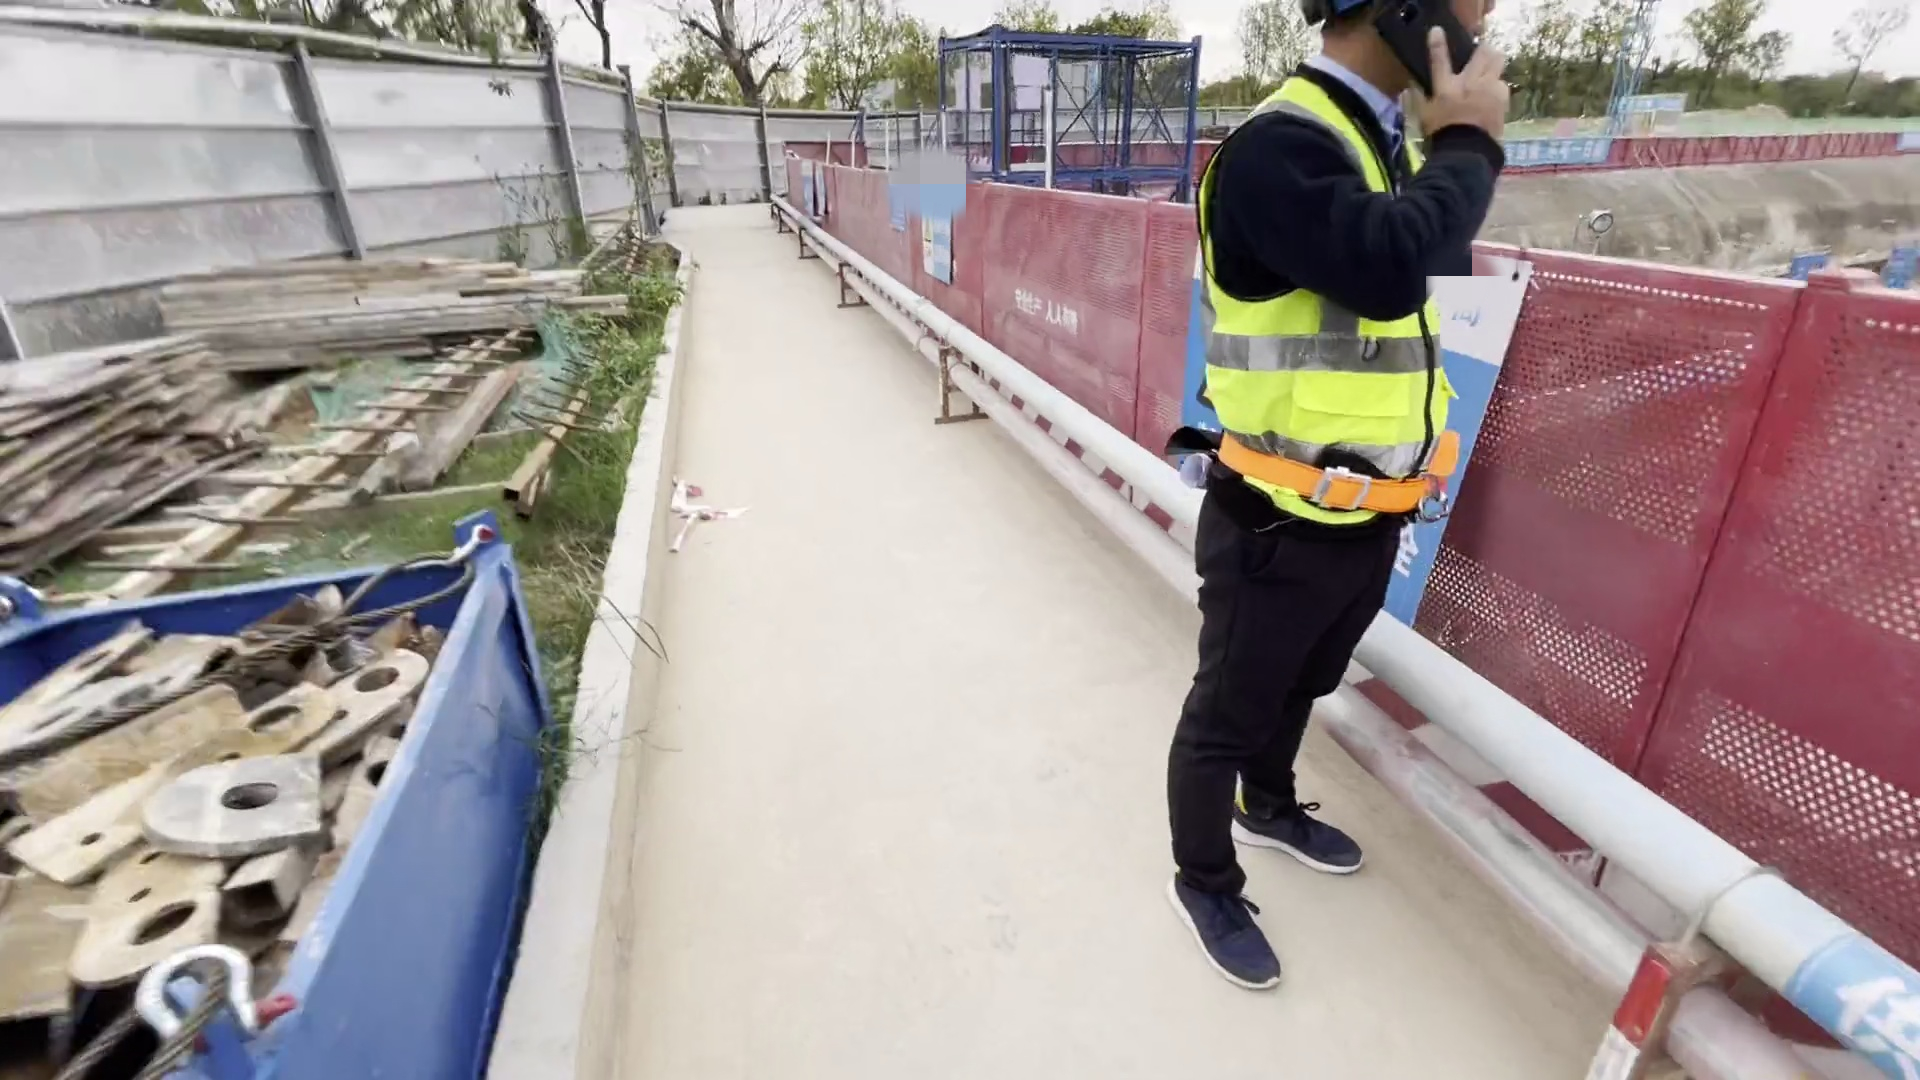board: (1, 337, 251, 500)
fence: (737, 52, 1903, 951)
hopper: (5, 557, 472, 1080)
person: (1166, 8, 1518, 1027)
slogan: (879, 174, 955, 287), (1498, 135, 1619, 166), (798, 157, 832, 227), (1622, 91, 1690, 115)
vest: (1191, 56, 1479, 539)
wood: (176, 243, 613, 382)
